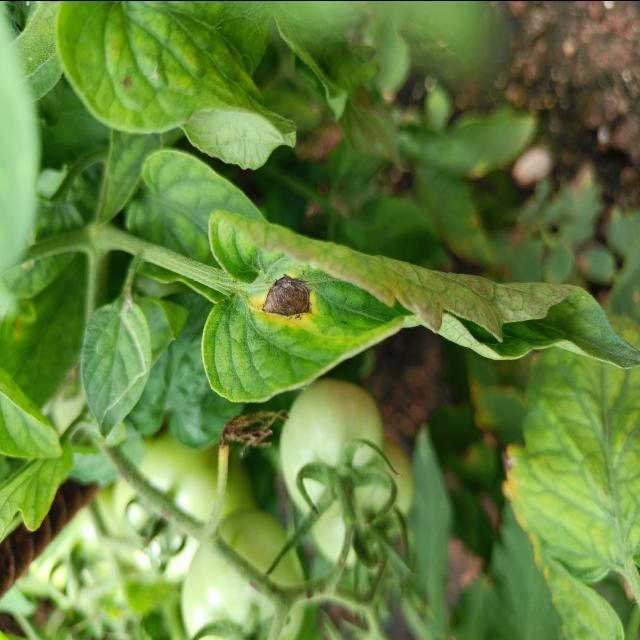Tomato mosaic virus leaf: (198, 197, 640, 412)
